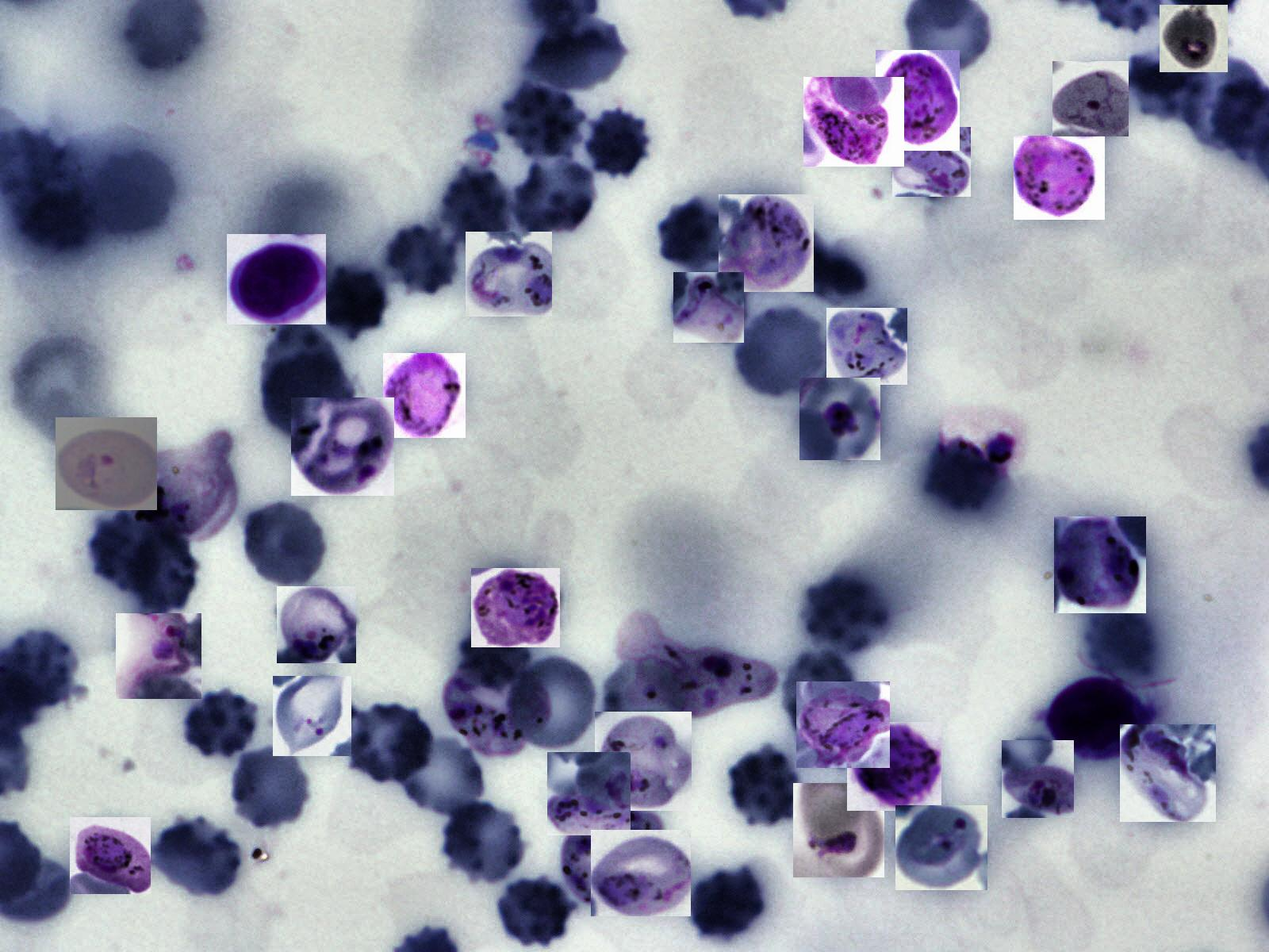Infected: (616, 613, 780, 720), (129, 433, 235, 542), (559, 805, 665, 912), (443, 658, 550, 757), (291, 397, 394, 496), (1044, 674, 1152, 766), (596, 712, 692, 811), (1120, 724, 1216, 822), (56, 417, 157, 510), (719, 194, 814, 292), (803, 77, 904, 167), (1054, 516, 1146, 613), (227, 234, 326, 324), (591, 830, 691, 916), (793, 783, 884, 877), (876, 50, 960, 151), (847, 722, 941, 811), (796, 681, 890, 768), (895, 805, 987, 890), (1014, 136, 1105, 220), (117, 613, 202, 699), (466, 232, 552, 317), (383, 353, 466, 438), (471, 568, 560, 647), (547, 753, 631, 835), (799, 378, 880, 460), (273, 676, 351, 756), (70, 817, 151, 894), (826, 308, 907, 385), (277, 586, 356, 663), (942, 406, 1026, 478), (1052, 61, 1129, 136), (1002, 740, 1074, 818), (892, 127, 971, 197), (673, 272, 744, 343), (1160, 6, 1228, 72)
Uninfected: (506, 653, 601, 754), (733, 304, 827, 401), (237, 498, 332, 589), (397, 730, 489, 821), (1179, 56, 1267, 151), (149, 816, 246, 901), (263, 351, 354, 440), (512, 152, 601, 239), (439, 799, 529, 885), (803, 570, 895, 654), (343, 701, 434, 785), (227, 746, 313, 831), (263, 322, 343, 413), (526, 16, 629, 86), (779, 646, 856, 739), (685, 864, 773, 945), (86, 511, 163, 597), (505, 81, 586, 162), (380, 221, 461, 302), (1127, 48, 1213, 124), (602, 662, 684, 741), (179, 686, 263, 762), (494, 873, 576, 949), (126, 532, 196, 616), (444, 167, 512, 251), (315, 264, 389, 340), (927, 440, 1001, 512), (730, 747, 799, 823), (1087, 601, 1154, 678), (656, 198, 724, 271), (585, 105, 650, 179)
